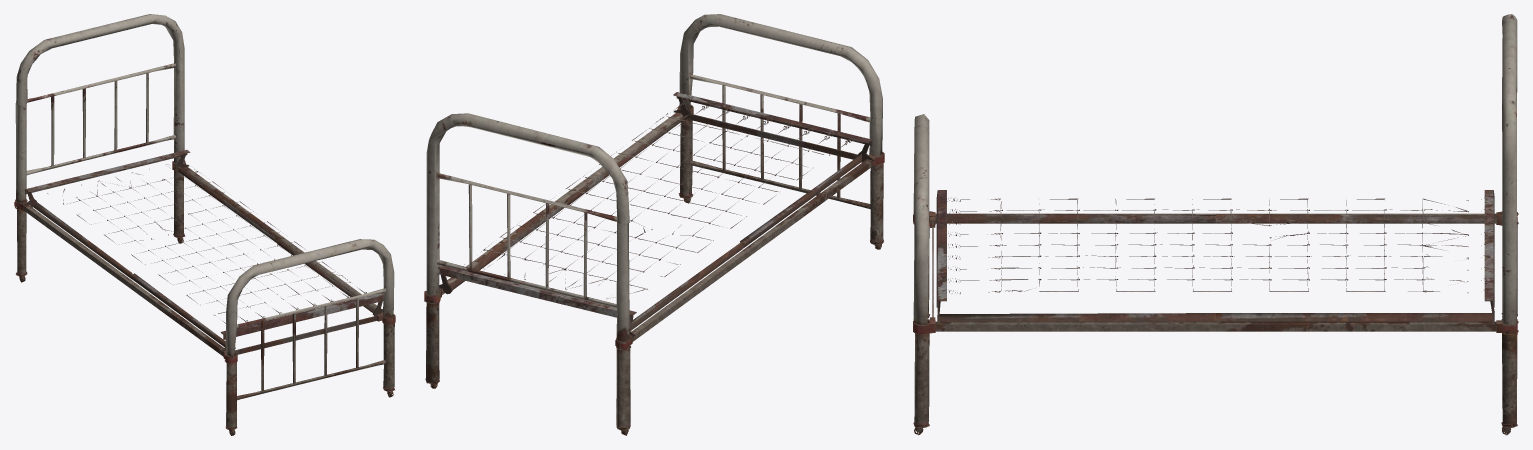
Rendered from bed_old_frame.glb.
The picture shows the model from 3 angles, left to right: view 1: azimuth 30°, elevation 25°; view 2: azimuth 150°, elevation 25°; view 3: azimuth 270°, elevation 25°; orthographic projection. The views are drawn at different scales.
Parts seen in each view (by area): view 1: old_bed_frame; view 2: old_bed_frame; view 3: old_bed_frame.
Part boxes in pixels (left/top/right/bottom): old_bed_frame: left=14, top=14, right=395, bottom=435; old_bed_frame: left=424, top=14, right=884, bottom=435; old_bed_frame: left=913, top=14, right=1518, bottom=435.
Bounding box in the file's own units: 0.9116 × 1.2 × 2.
Materials: 1 (1 with a texture image).
